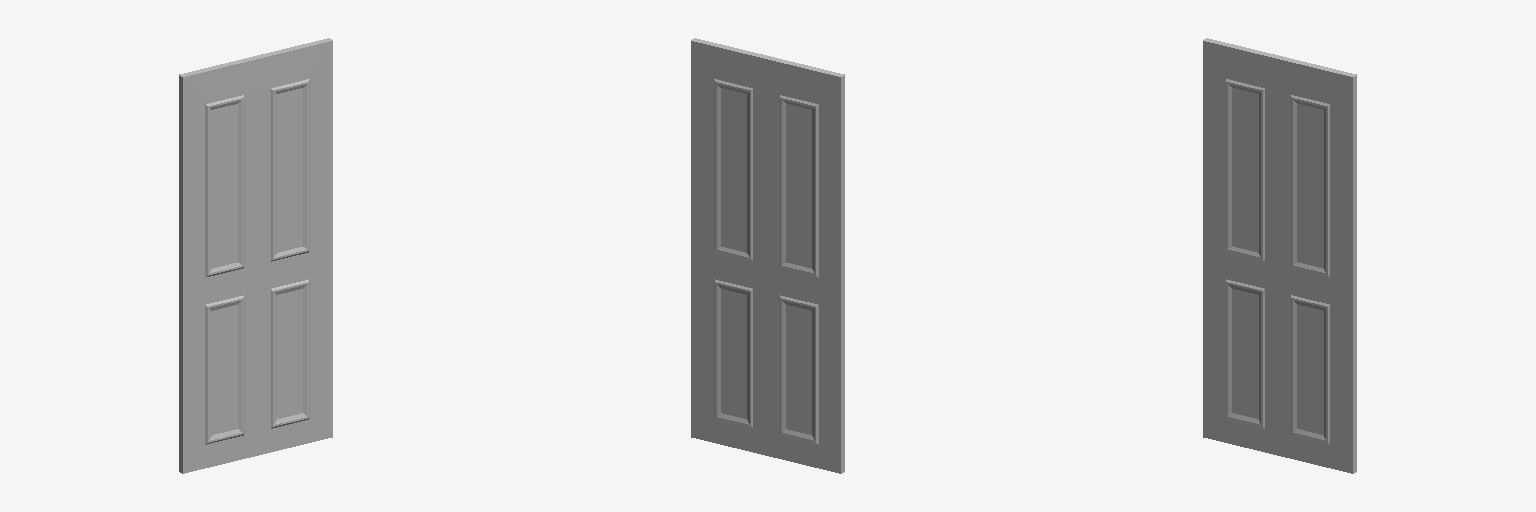
The model's file is door.obj.
3 renders of one model, left to right at view 1: azimuth 30°, elevation 25°; view 2: azimuth 150°, elevation 25°; view 3: azimuth 330°, elevation 25°, orthographic.
Visible parts, largest first — view 1: SM_Door; view 2: SM_Door; view 3: SM_Door.
Boxes of the visible parts, box(x1,y1,x2,y2) form: SM_Door: box(179, 38, 332, 473); SM_Door: box(691, 38, 844, 473); SM_Door: box(1203, 38, 1356, 473).
Bounding box in the file's own units: 1.08 × 2.71 × 0.0637.